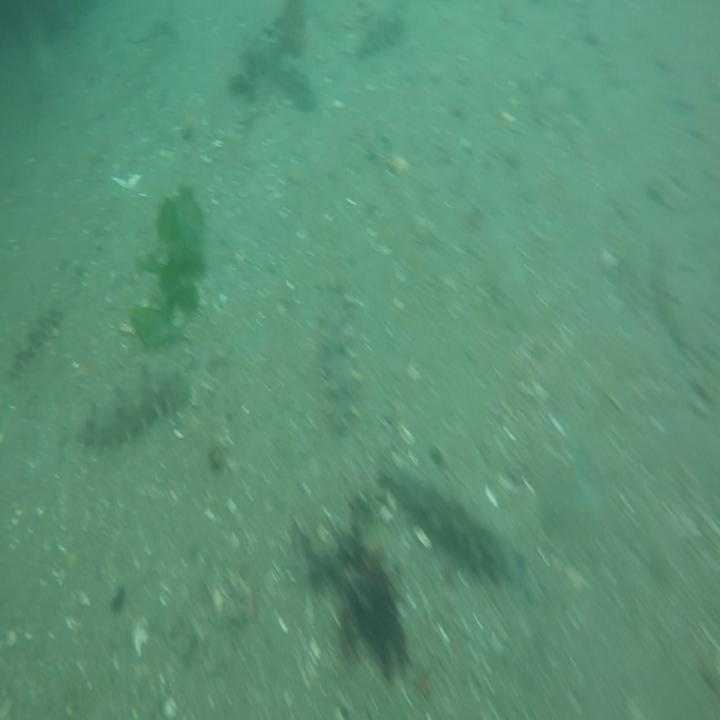holothurian: (372, 456, 518, 588), (72, 358, 187, 455), (311, 281, 362, 429), (242, 40, 316, 110), (4, 294, 63, 380), (356, 9, 409, 60)
